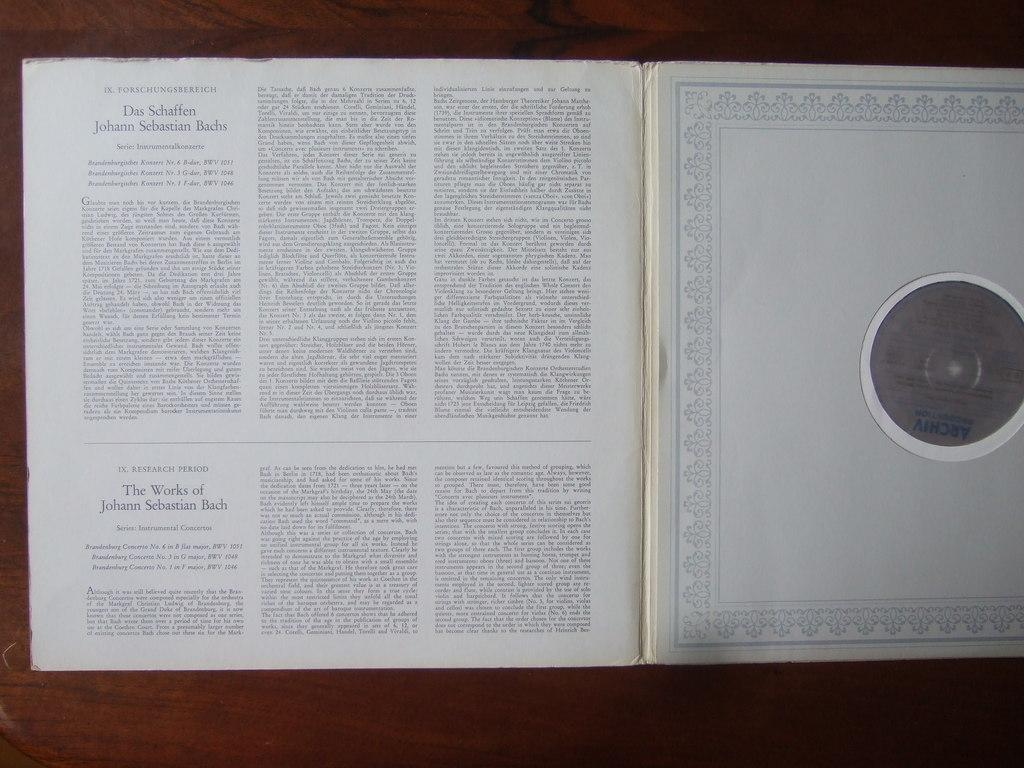Book: (18, 58, 1023, 664)
